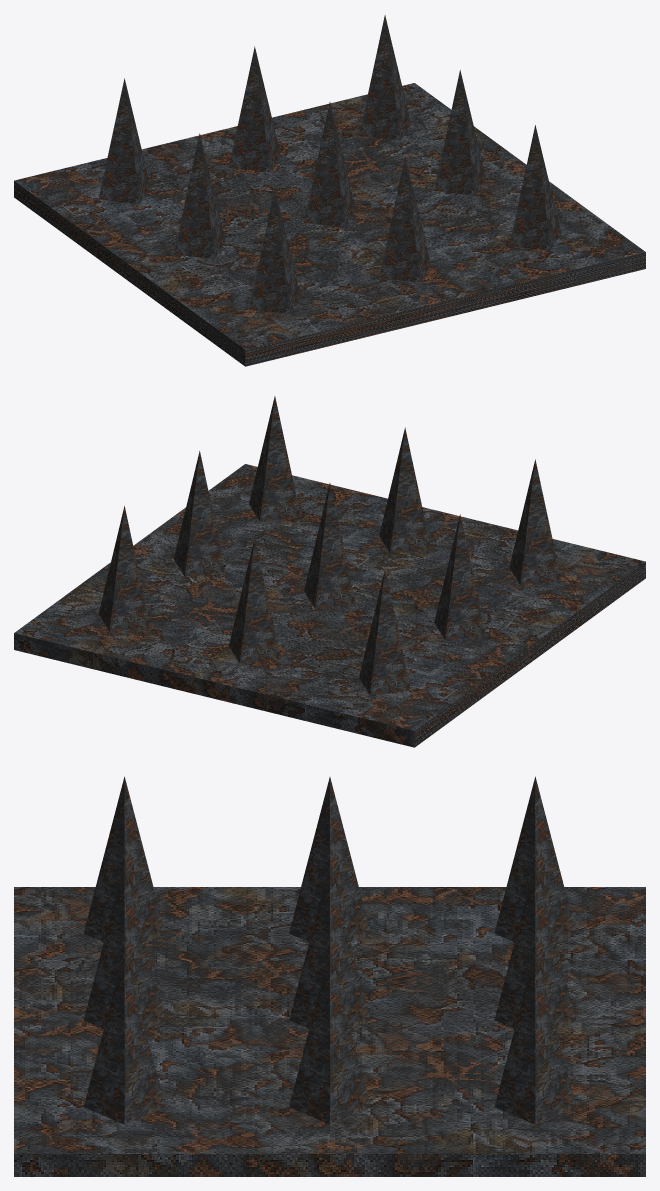
The model's file is D06_Espinhos.obj.
The picture shows the model from 3 angles, top to bottom: view 1: azimuth 30°, elevation 25°; view 2: azimuth 150°, elevation 25°; view 3: azimuth 270°, elevation 25°; orthographic projection. The views are drawn at different scales.
Visible parts, largest first — view 1: D06_Espinhos; view 2: D06_Espinhos; view 3: D06_Espinhos.
Boxes of the visible parts, x1,y1,x2,y2 form: D06_Espinhos: (14,15,645,366); D06_Espinhos: (14,396,645,747); D06_Espinhos: (14,776,645,1176).
Bounding box in the file's own units: 2 × 0.63 × 2.
1 material, 1 textured.
